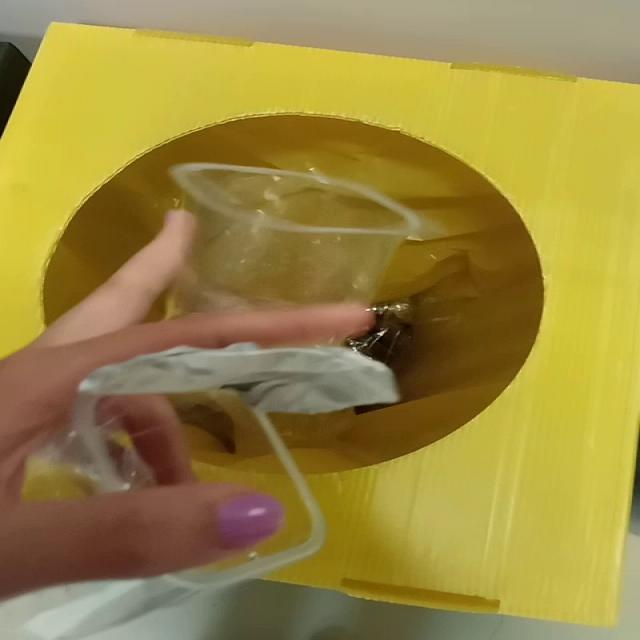plastic: (171, 163, 421, 312)
